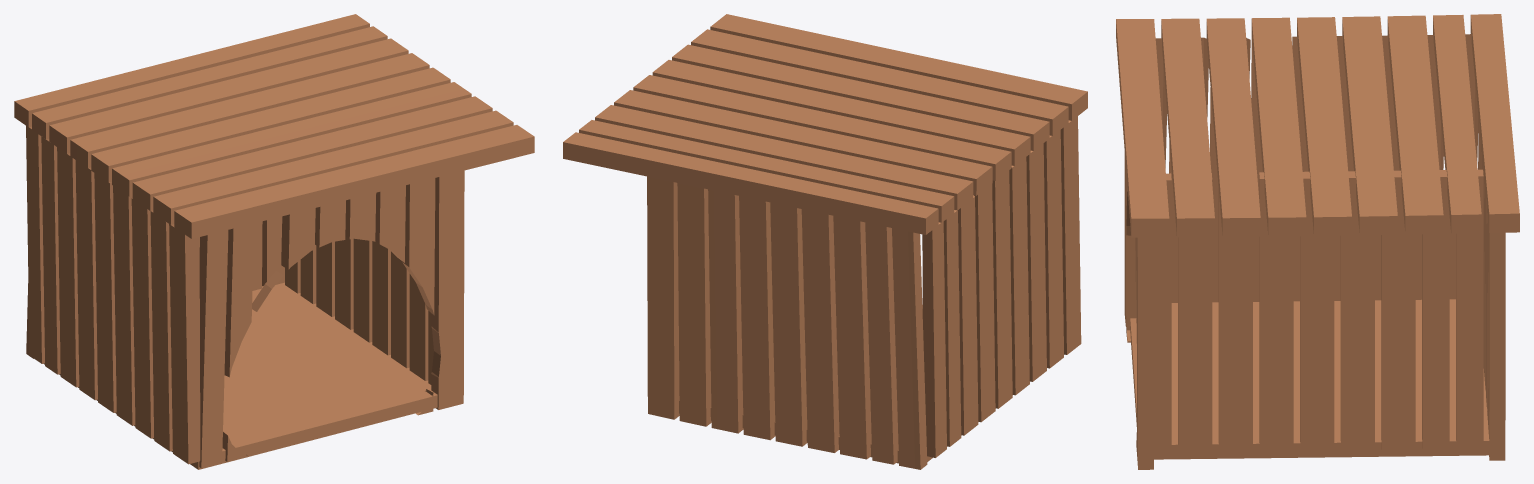
File: FishingBugFix.fbx
The picture shows the model from 3 angles, left to right: view 1: azimuth 30°, elevation 25°; view 2: azimuth 150°, elevation 25°; view 3: azimuth 270°, elevation 25°; orthographic projection. The views are drawn at different scales.
Visible parts, largest first — view 1: Plane.049; view 2: Plane.049; view 3: Plane.049.
Boxes of the visible parts, <box> form: Plane.049: <box>14,14,534,469</box>; Plane.049: <box>563,14,1087,469</box>; Plane.049: <box>1116,14,1519,469</box>.
Size of the model in its own units: 236 by 162 by 202.
